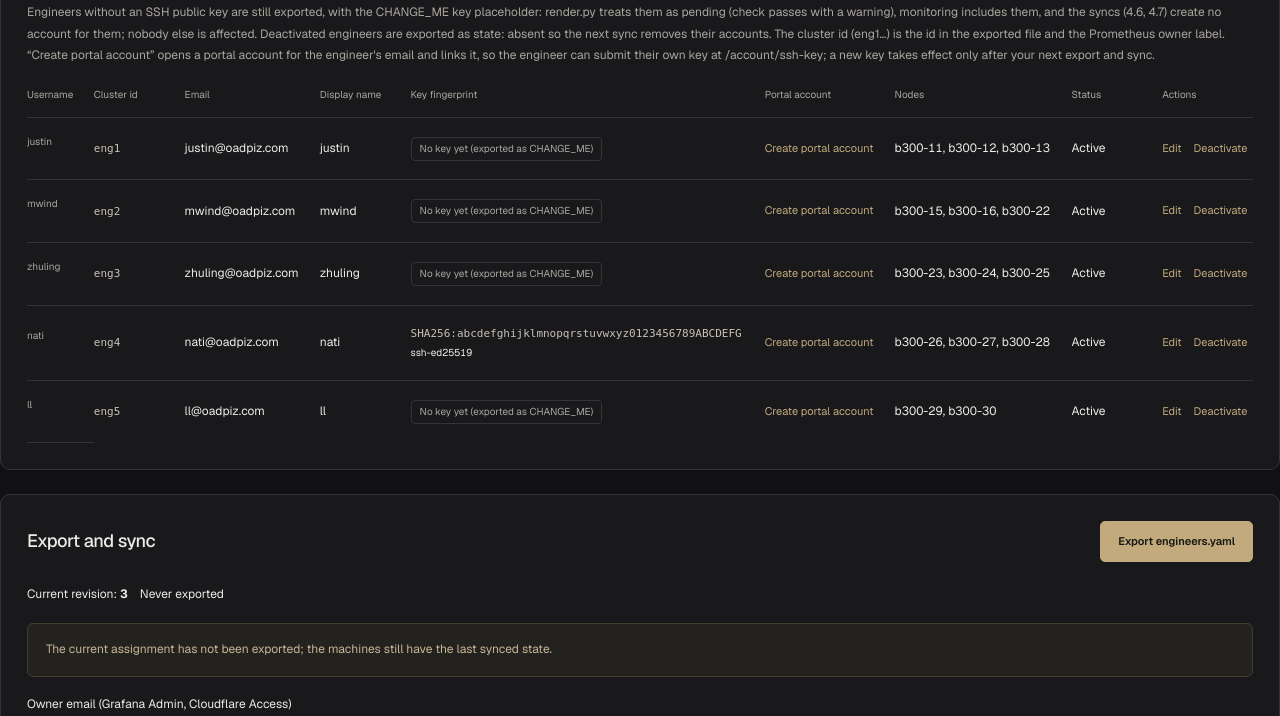
Scenario: admin node allocation section › shows the API's reason when a write is refused
(page scrolled)
Click the button with aria-label "Deactivate ll".
click(1220, 412)  # box [1194,399,1247,425]
(page scrolled)
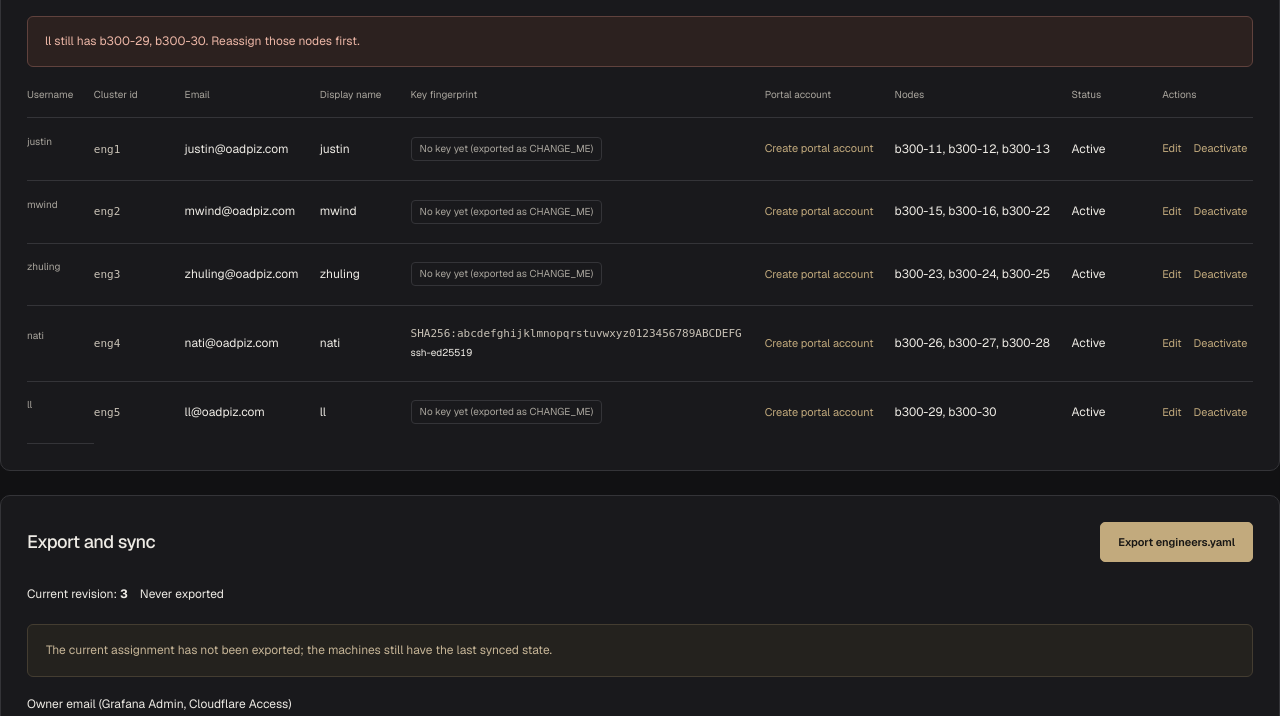
Result: the text "ll still has b300-29, b300-30. Reassign those nodes first." is shown at [27,16,1253,68]
